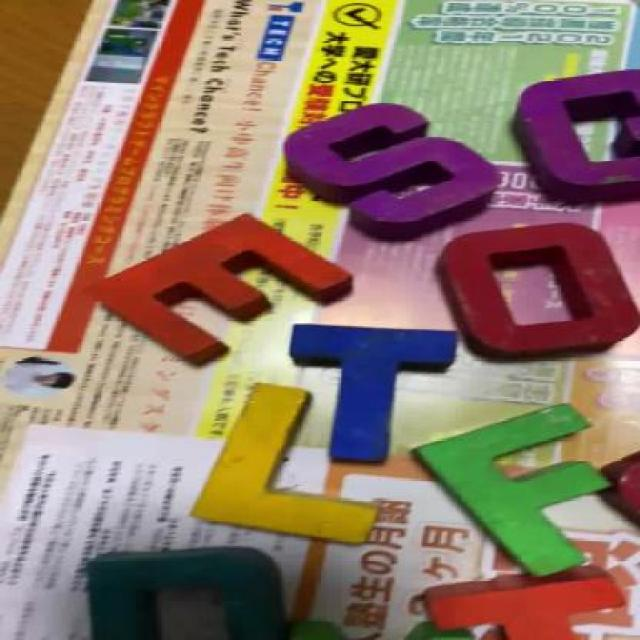E: (80, 216, 352, 356)
F: (422, 405, 608, 580)
G: (513, 65, 639, 201)
L: (198, 380, 385, 554)
O: (428, 222, 630, 360)
S: (281, 102, 507, 238)
T: (293, 323, 459, 468)
